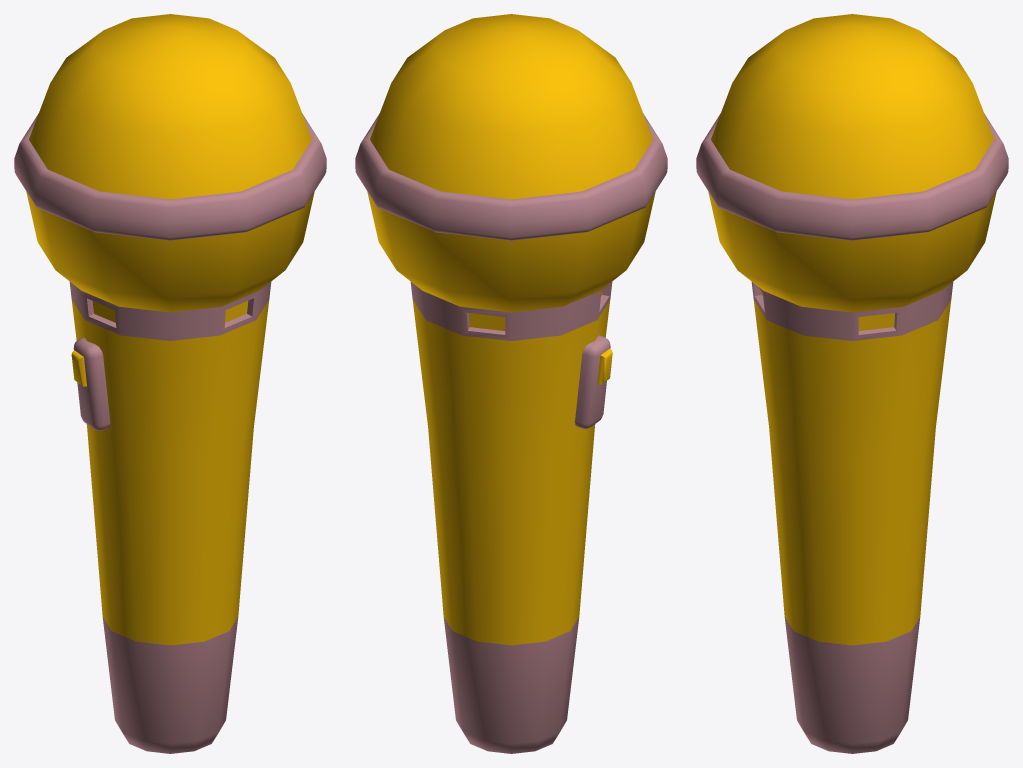
Rendered from Microphone_2.fbx.
3 renders of one model, left to right at view 1: azimuth 30°, elevation 25°; view 2: azimuth 150°, elevation 25°; view 3: azimuth 270°, elevation 25°, orthographic.
Visible parts, largest first — view 1: Microphone_2; view 2: Microphone_2; view 3: Microphone_2.
Boxes of the visible parts, left/top/right/bottom form: Microphone_2: left=14, top=14, right=326, bottom=753; Microphone_2: left=355, top=14, right=667, bottom=753; Microphone_2: left=696, top=14, right=1008, bottom=753.
Size of the model in its own units: 0.0666 by 0.1659 by 0.0666.
